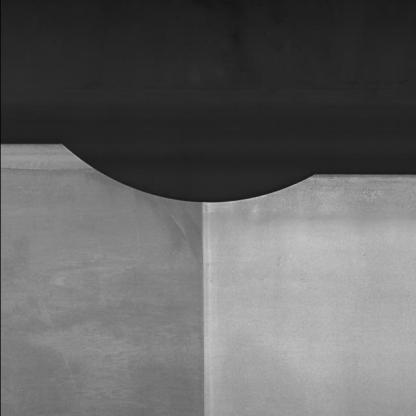welding_line: (182, 198, 222, 416)
